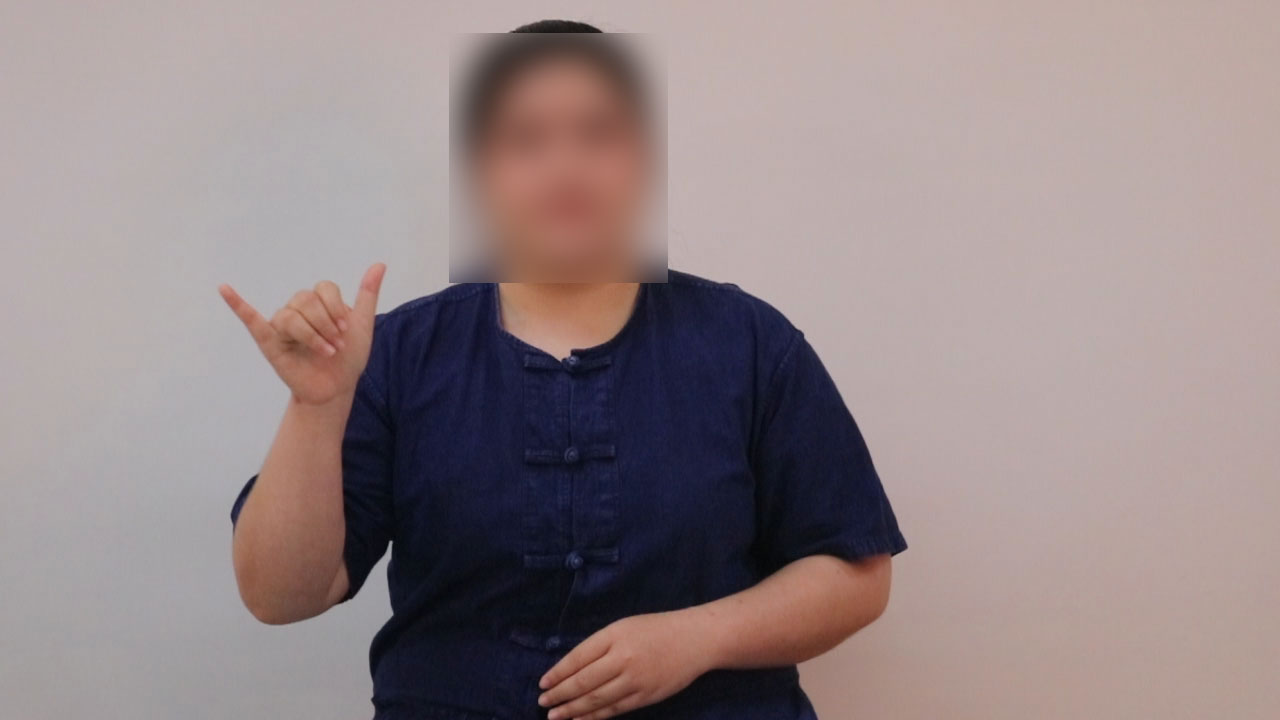yor: (213, 261, 402, 410)
